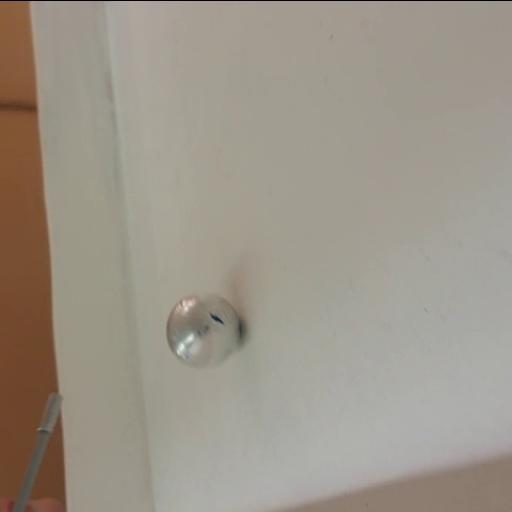alive: (165, 292, 243, 368)
